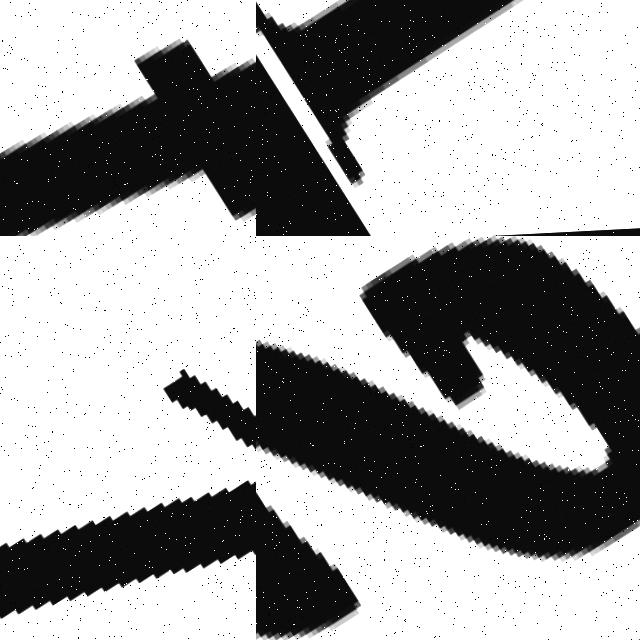1: (0, 236, 256, 640)
2: (256, 236, 640, 640)
F: (0, 0, 256, 236)
L: (256, 0, 640, 201)
